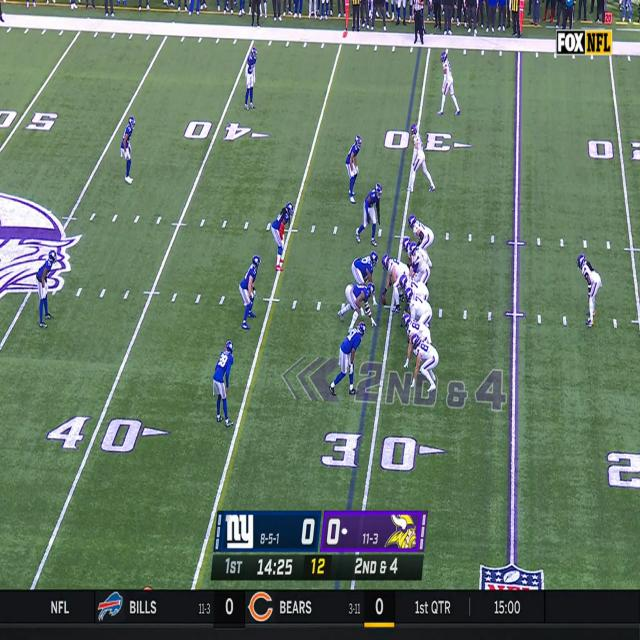football: (381, 294, 387, 306)
players: (330, 322, 366, 397), (338, 283, 376, 334), (408, 125, 436, 193), (214, 339, 235, 427), (356, 182, 384, 246), (578, 254, 602, 327), (410, 334, 439, 392), (271, 202, 295, 271), (382, 255, 410, 312), (402, 314, 431, 369), (37, 250, 57, 328), (240, 254, 260, 330), (438, 52, 461, 117), (352, 252, 378, 306), (400, 276, 430, 320), (346, 135, 363, 203), (406, 288, 432, 328), (121, 116, 135, 184), (408, 215, 433, 252), (244, 47, 258, 110), (410, 244, 430, 284)
